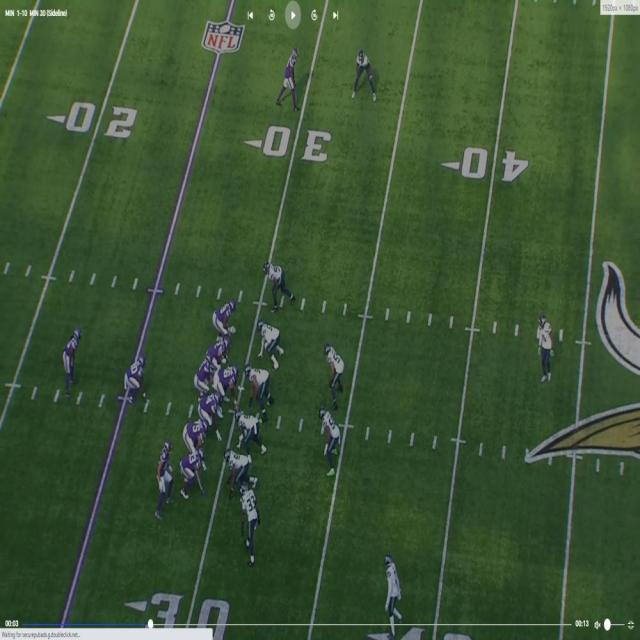center: (223, 362, 243, 403)
db: (383, 552, 398, 628), (247, 488, 262, 562), (538, 322, 556, 383)
lb: (318, 402, 341, 477), (262, 262, 296, 301), (323, 346, 345, 405)
qb: (194, 352, 212, 396)
skill: (278, 48, 300, 109), (157, 439, 174, 515), (125, 351, 149, 404), (183, 453, 207, 499), (353, 52, 375, 102), (62, 331, 79, 384)
